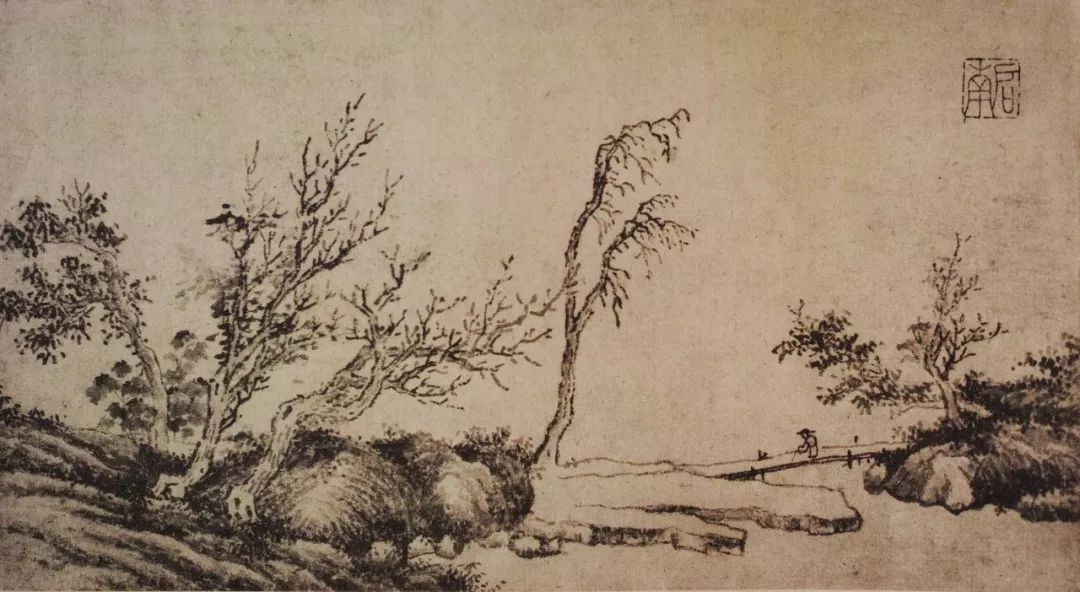bridge: (704, 456, 804, 476), (833, 439, 907, 457)
grass: (187, 536, 479, 592), (983, 375, 1080, 433), (1, 407, 87, 466), (459, 433, 532, 466)
man: (800, 426, 820, 460)
tree: (224, 220, 291, 374), (14, 269, 147, 343), (424, 313, 544, 370), (10, 195, 120, 253), (302, 124, 372, 213), (909, 253, 961, 368), (294, 217, 326, 358), (844, 362, 937, 409), (190, 383, 235, 469), (562, 253, 581, 455), (600, 119, 666, 176), (363, 299, 400, 399), (229, 432, 284, 495), (787, 310, 850, 359), (137, 341, 167, 436), (625, 206, 685, 251), (570, 188, 607, 253), (283, 399, 337, 432), (477, 261, 507, 315), (934, 381, 964, 430), (372, 263, 407, 300), (414, 382, 462, 405), (608, 271, 628, 323), (954, 329, 996, 349), (328, 238, 367, 257)
